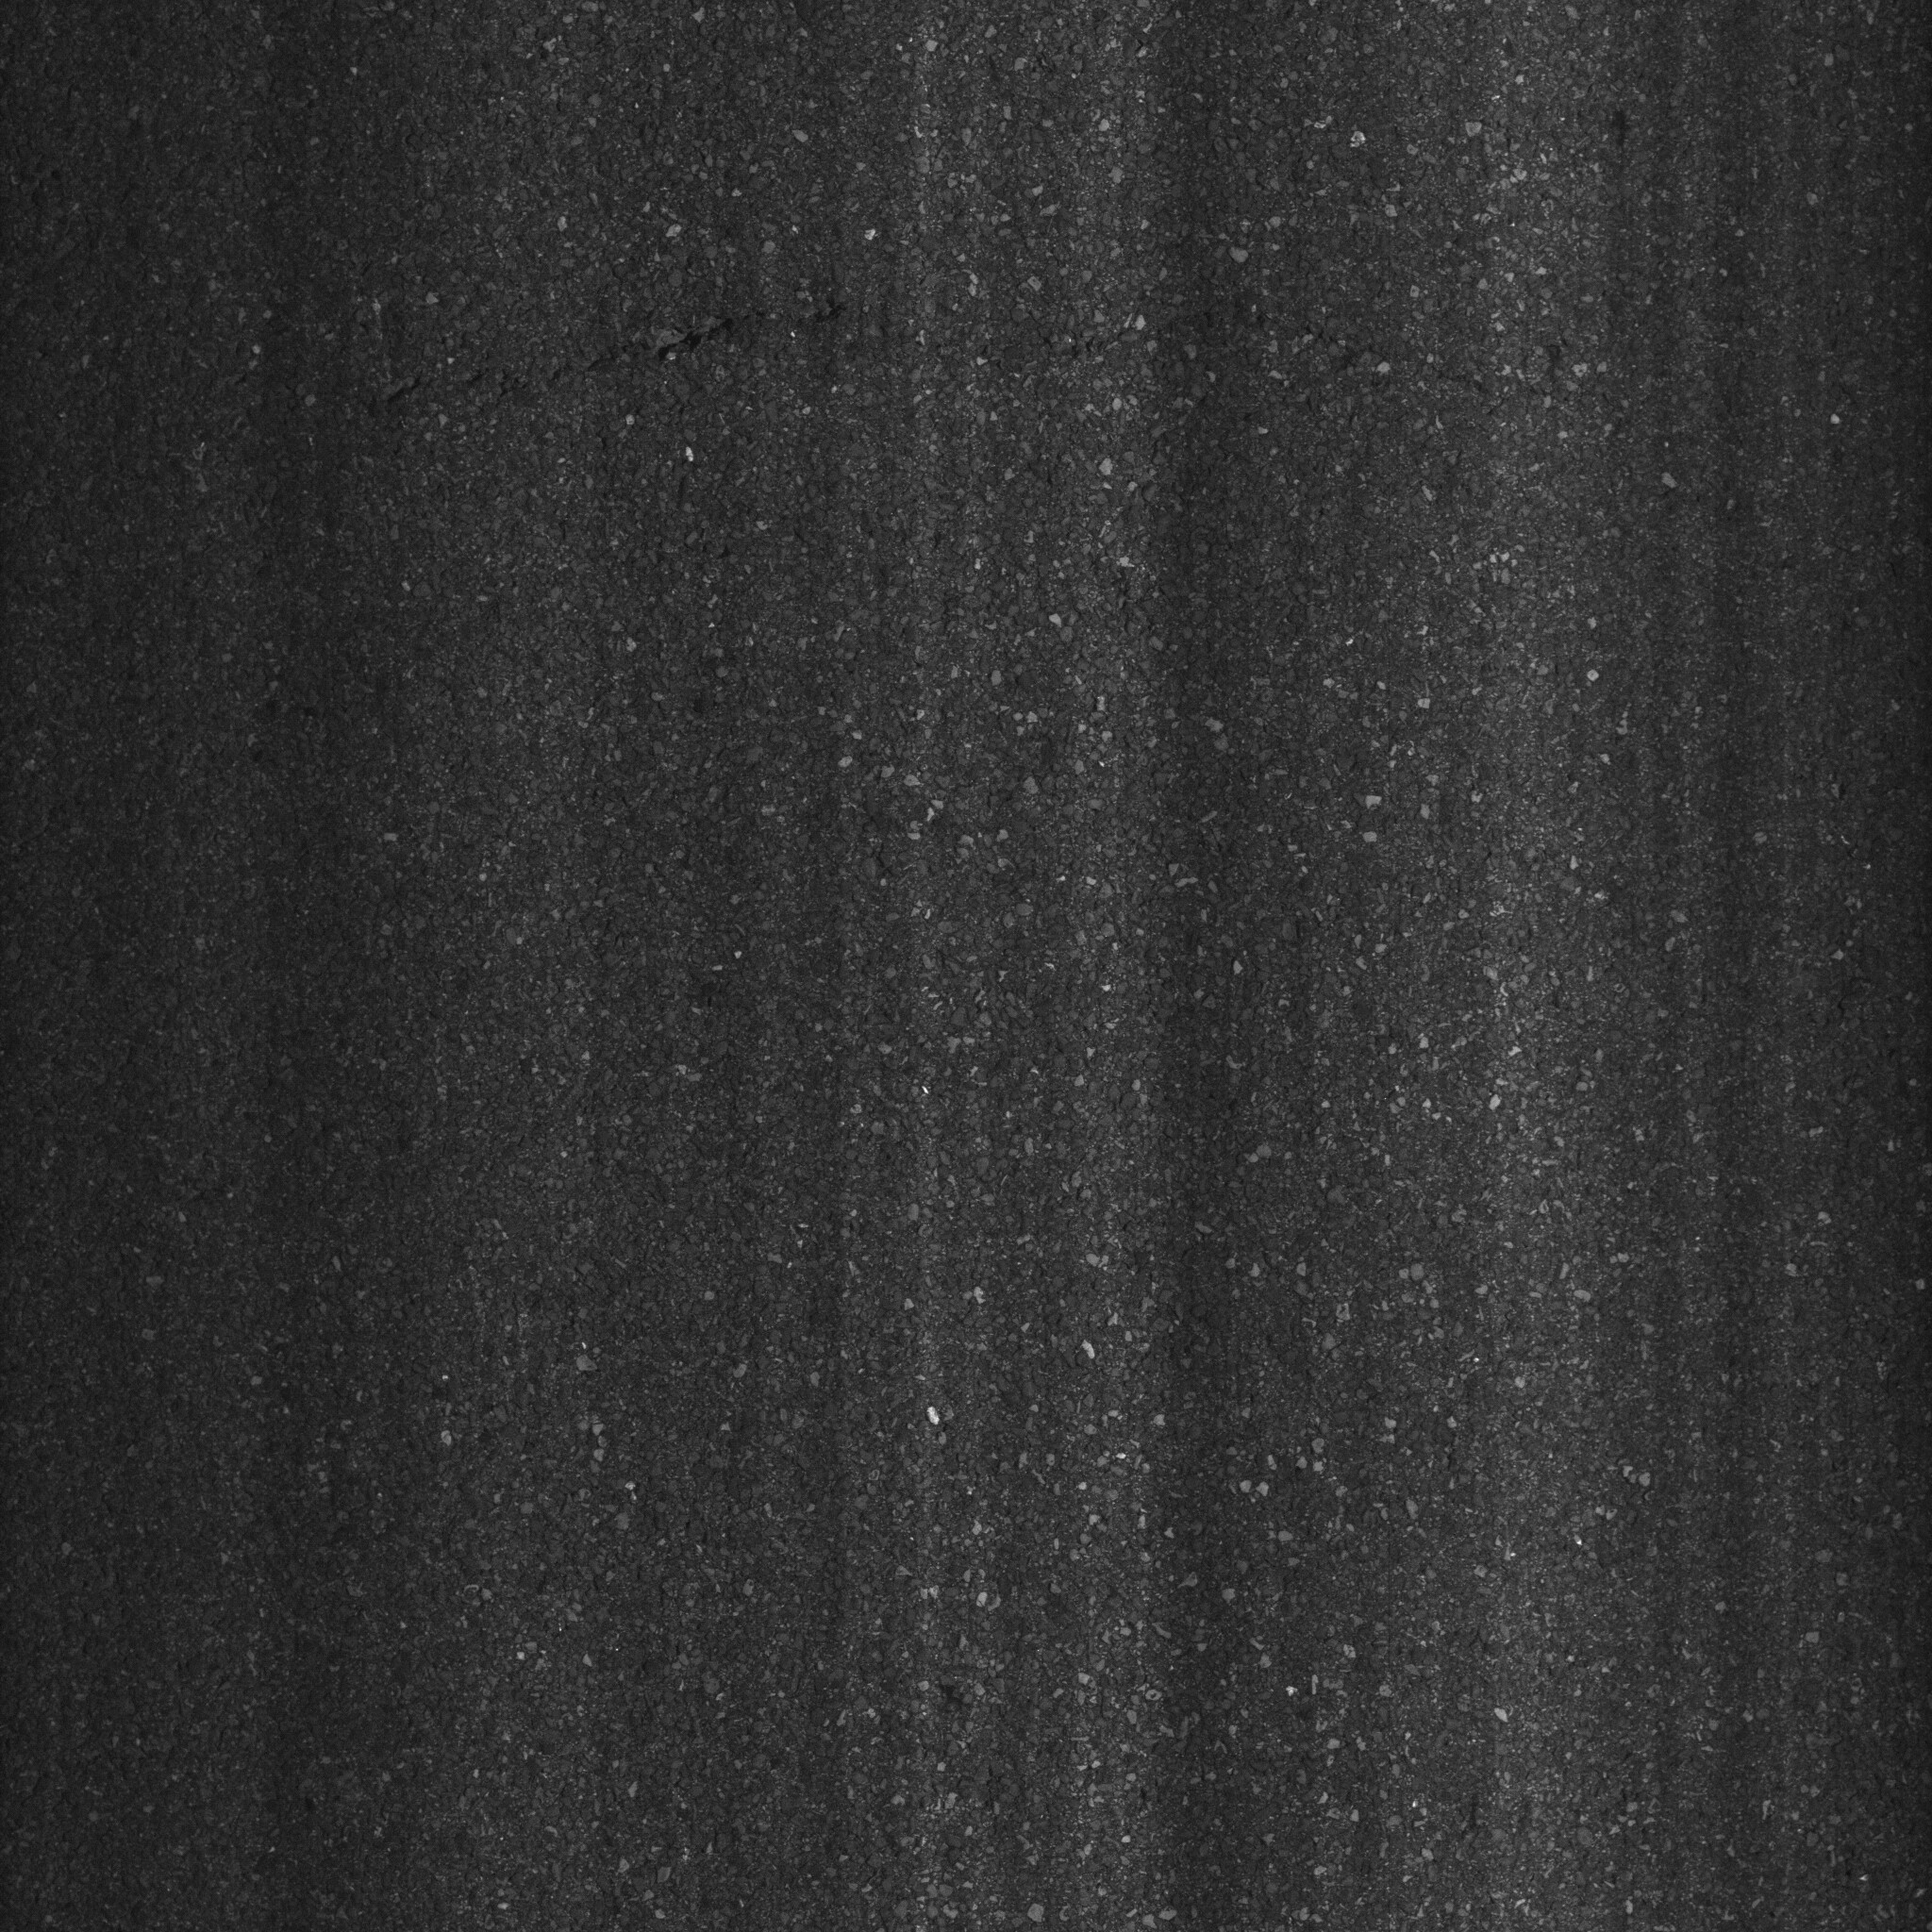transverse: (216, 205, 1583, 481)
